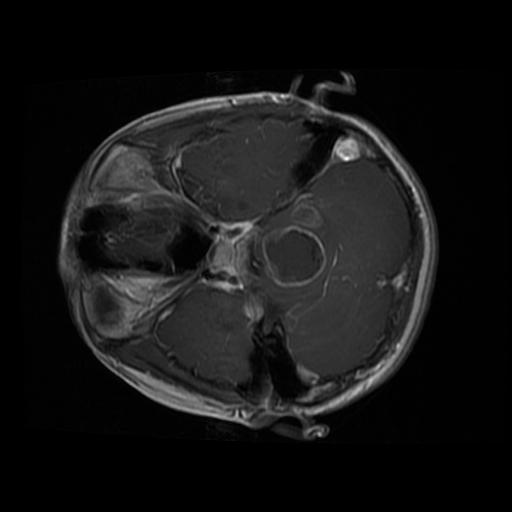glioma: (260, 226, 327, 286)
